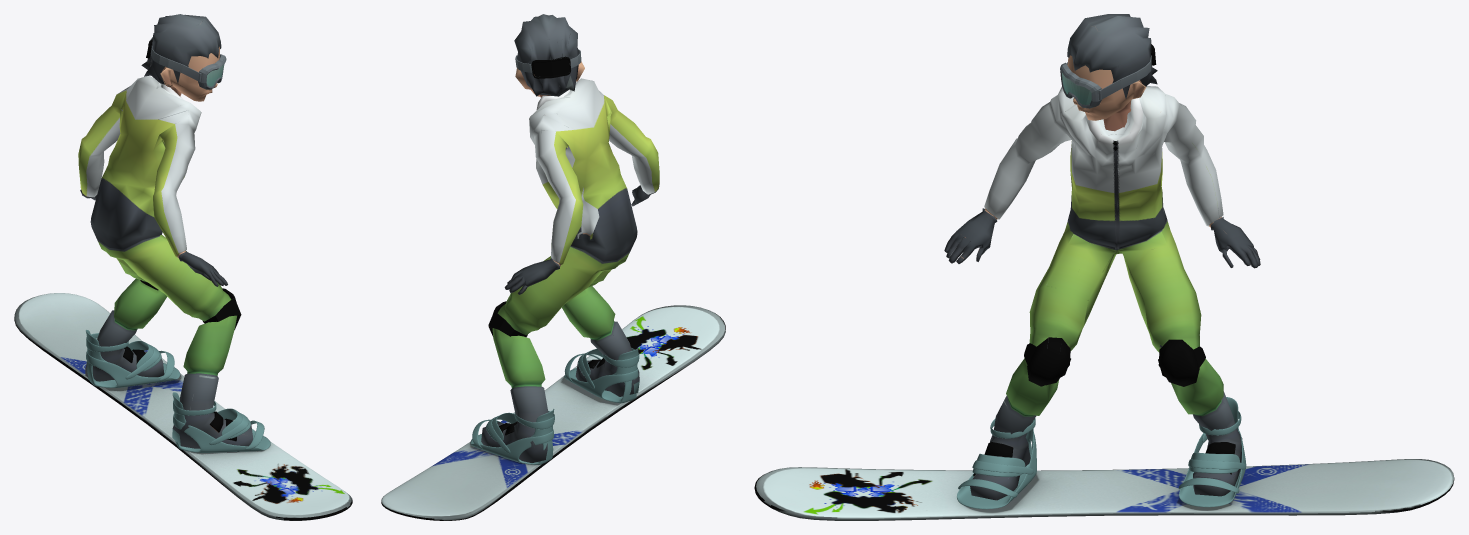
Rendered from Jump main main.fbx.
3 views of the same model, side by side, from view 1: azimuth 30°, elevation 25°; view 2: azimuth 150°, elevation 25°; view 3: azimuth 270°, elevation 25° (orthographic). The views are drawn at different scales.
Parts seen in each view (by area): view 1: Jump; view 2: Jump; view 3: Jump.
Part boxes in pixels (x1,y1,x2,y2): Jump: [14, 14, 352, 520]; Jump: [381, 14, 725, 520]; Jump: [754, 14, 1454, 520].
Size of the model in its own units: 28.55 by 91 by 119.
1 material, 1 textured.
